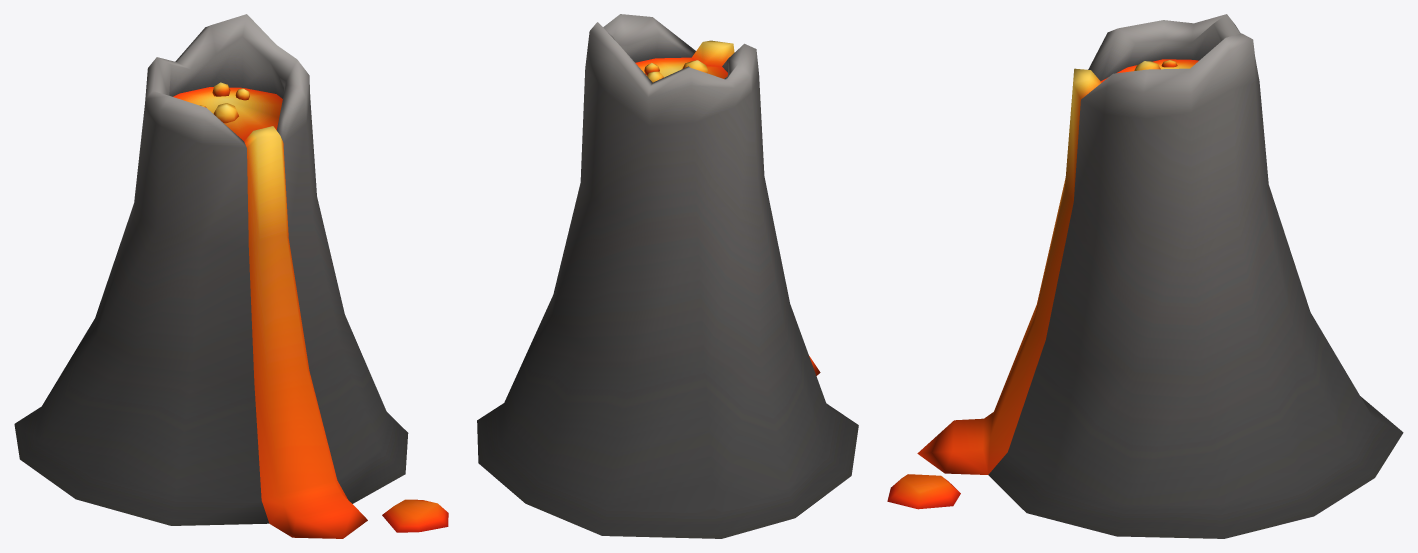
The model's file is m_Volcano01_A.fbx.
3 renders of one model, left to right at view 1: azimuth 30°, elevation 25°; view 2: azimuth 150°, elevation 25°; view 3: azimuth 270°, elevation 25°, orthographic. The views are drawn at different scales.
Parts seen in each view (by area): view 1: m_Volcano01_A; view 2: m_Volcano01_A; view 3: m_Volcano01_A.
Boxes of the visible parts, <box> form: m_Volcano01_A: <box>14,14,448,538</box>; m_Volcano01_A: <box>477,14,858,538</box>; m_Volcano01_A: <box>887,14,1403,538</box>.
Bounding box in the file's own units: 729 × 881 × 936.
